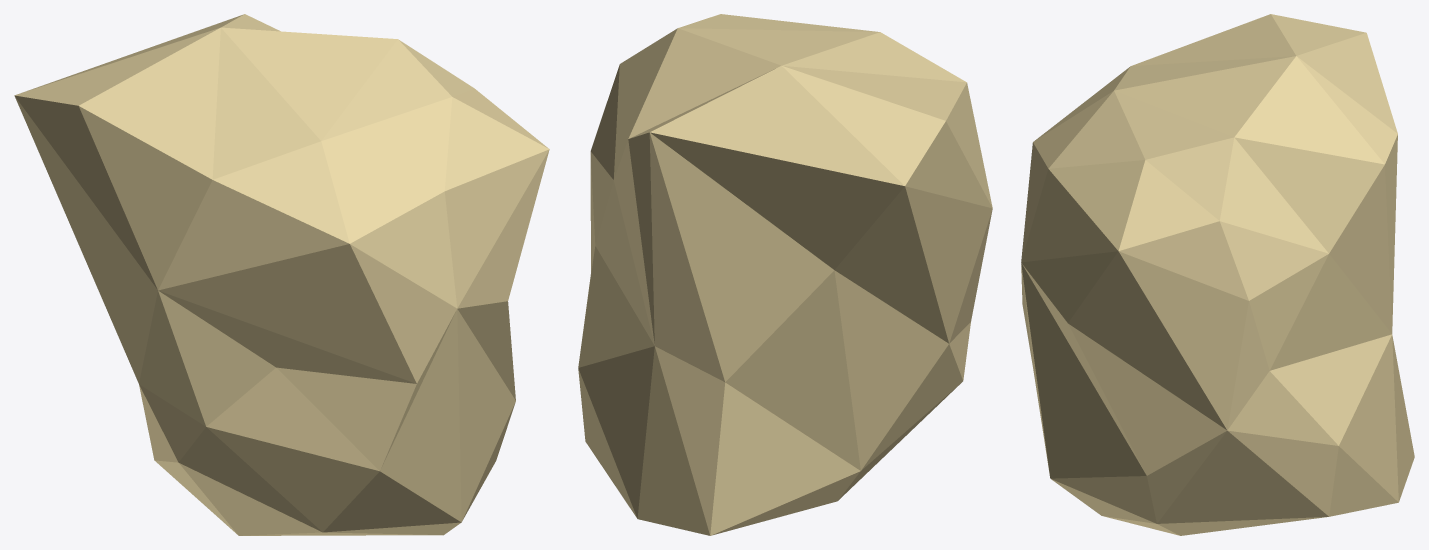
Rendered from Rock (13).fbx.
3 views of the same model, side by side, from view 1: azimuth 30°, elevation 25°; view 2: azimuth 150°, elevation 25°; view 3: azimuth 270°, elevation 25° (orthographic). The views are drawn at different scales.
Visible parts, largest first — view 1: Asteroid12; view 2: Asteroid12; view 3: Asteroid12.
Boxes of the visible parts, x1,y1,x2,y2 form: Asteroid12: (14, 14, 549, 535); Asteroid12: (578, 14, 992, 535); Asteroid12: (1021, 14, 1414, 535).
Bounding box in the file's own units: 191 × 215 × 180.
